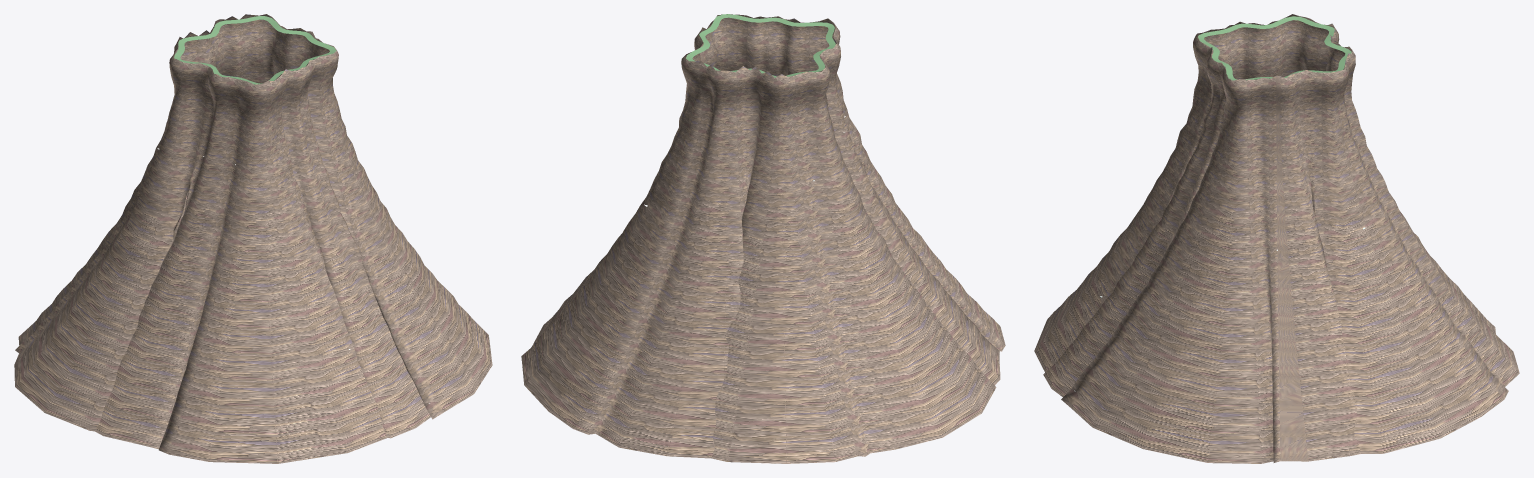
The model's file is CliffWall_stack_07.glb.
The picture shows the model from 3 angles, left to right: view 1: azimuth 30°, elevation 25°; view 2: azimuth 150°, elevation 25°; view 3: azimuth 270°, elevation 25°; orthographic projection. The views are drawn at different scales.
Visible parts, largest first — view 1: CliffWall_stack_07-rock0, CliffWall_stack_07-lip0; view 2: CliffWall_stack_07-rock0, CliffWall_stack_07-lip0; view 3: CliffWall_stack_07-rock0, CliffWall_stack_07-lip0.
Boxes of the visible parts, left/top/right/bottom form: CliffWall_stack_07-rock0: left=14, top=14, right=492, bottom=463; CliffWall_stack_07-lip0: left=174, top=16, right=336, bottom=84; CliffWall_stack_07-rock0: left=521, top=14, right=1005, bottom=463; CliffWall_stack_07-lip0: left=686, top=14, right=835, bottom=77; CliffWall_stack_07-rock0: left=1034, top=14, right=1519, bottom=463; CliffWall_stack_07-lip0: left=1198, top=16, right=1351, bottom=80.
Bounding box in the file's own units: 656 × 476 × 657.
4 materials, 1 textured.
